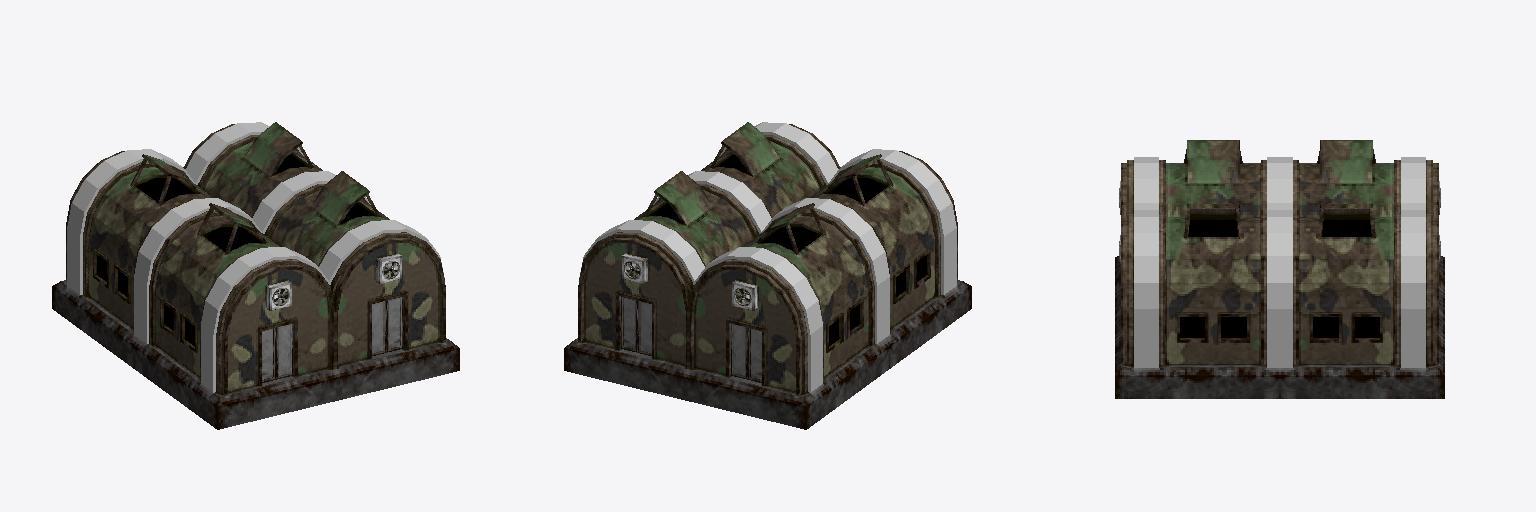
The picture shows the model from 3 angles: view 1: azimuth 30°, elevation 25°; view 2: azimuth 150°, elevation 25°; view 3: azimuth 270°, elevation 25°; orthographic projection.
Parts seen in each view (by area): view 1: Cube.025_Cube.013; view 2: Cube.025_Cube.013; view 3: Cube.025_Cube.013.
Part boxes in pixels (left/top/right/bottom): Cube.025_Cube.013: left=52, top=122, right=459, bottom=429; Cube.025_Cube.013: left=564, top=122, right=971, bottom=429; Cube.025_Cube.013: left=1115, top=140, right=1444, bottom=398.
Size of the model in its own units: 0.88 by 0.5832 by 1.04.
Materials: 2 (1 with a texture image).